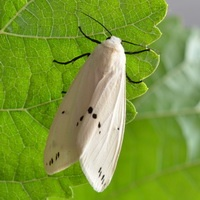insect: (44, 13, 149, 191)
